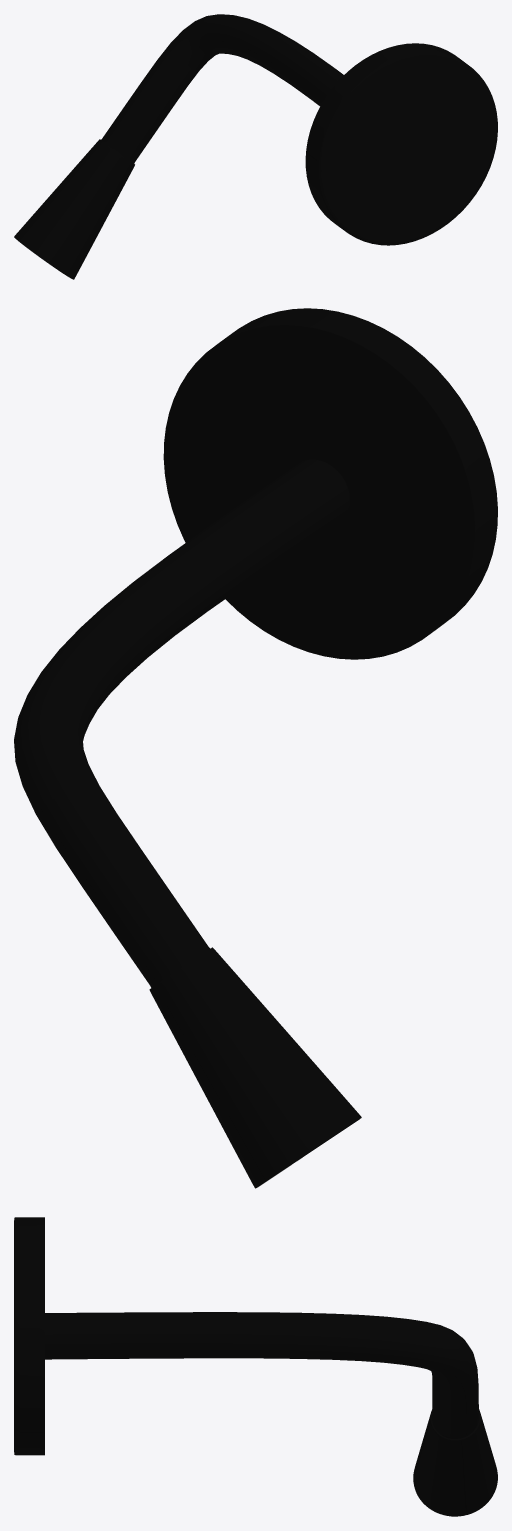
The model's file is Reading_light.glb.
3 views of the same model, one above another, from view 1: azimuth 30°, elevation 25°; view 2: azimuth 150°, elevation 25°; view 3: azimuth 270°, elevation 25° (orthographic). The views are drawn at different scales.
Parts seen in each view (by area): view 1: Reading light; view 2: Reading light; view 3: Reading light.
Boxes of the visible parts, x1=… form: Reading light: x1=14, y1=14, x2=497, y2=279; Reading light: x1=14, y1=308, x2=497, y2=1188; Reading light: x1=14, y1=1217, x2=497, y2=1516.
Size of the model in its own units: 0.1005 by 0.1085 by 0.1281.
1 material, 1 textured.
